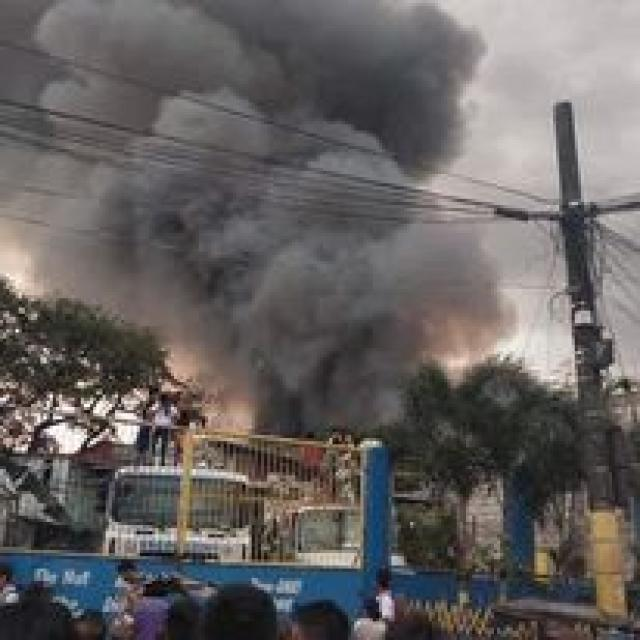Smoke: (3, 0, 463, 245), (148, 229, 518, 345), (210, 328, 406, 414)
